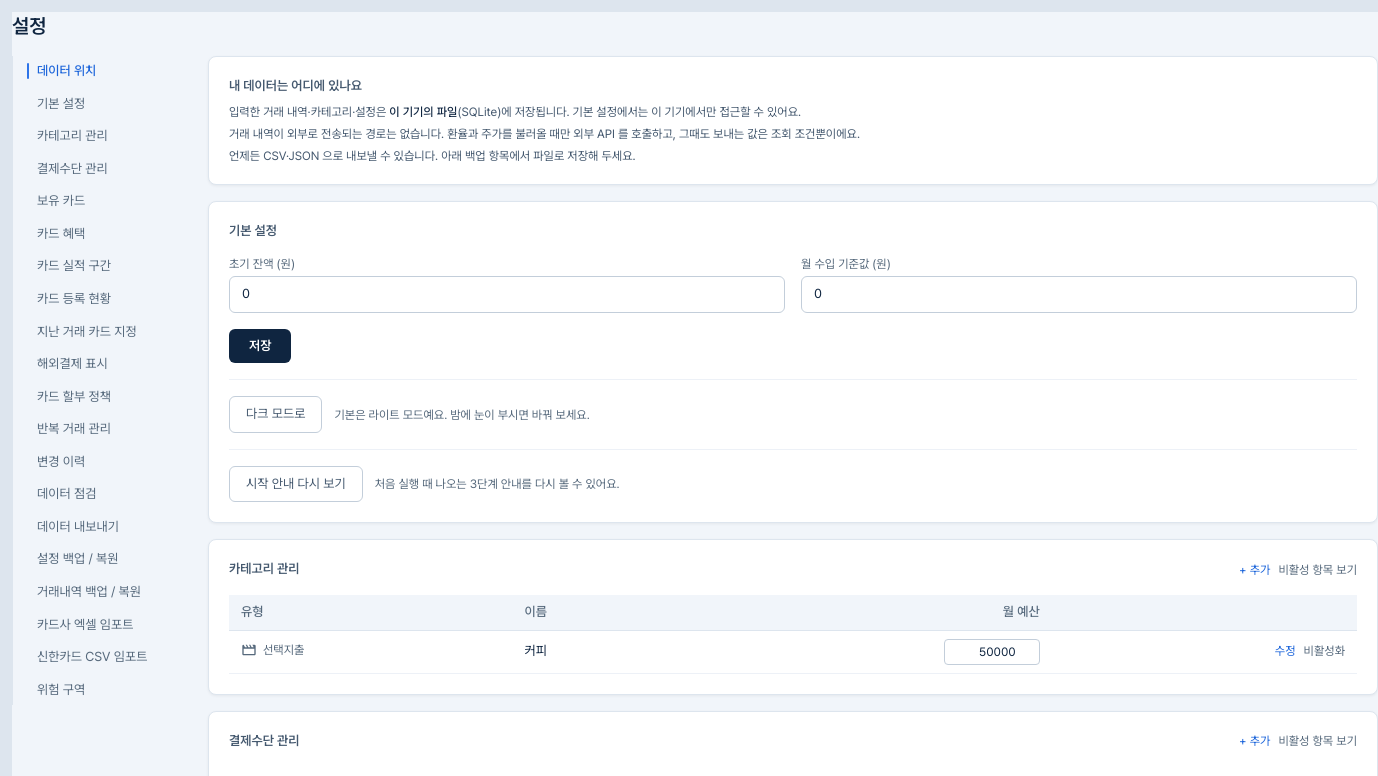
Test: 목록과 활성 필터 › 비활성 항목 보기로 넘기면 함께 보여준다
Click the 1st button "비활성 항목 보기": (1318, 570) [1278,562,1357,578]
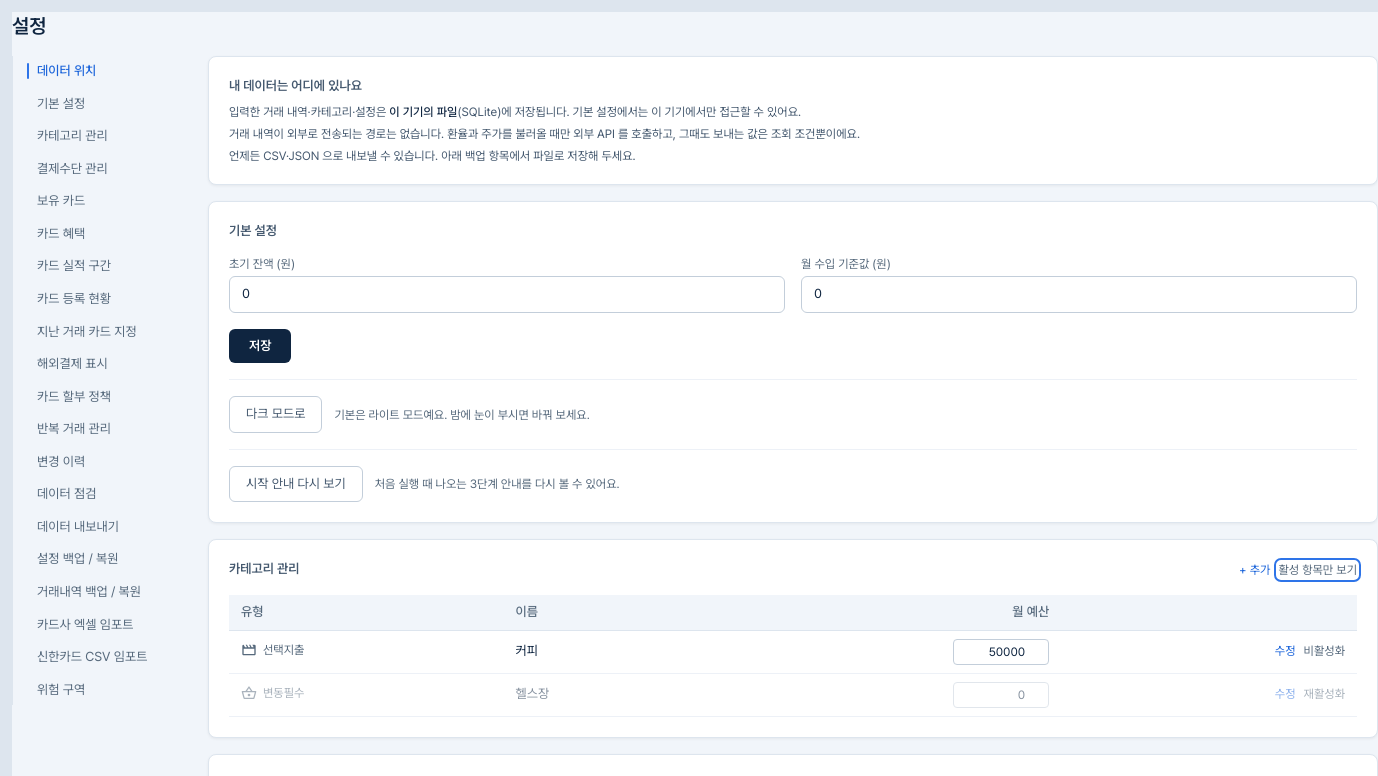
Expected: the text "커피" is shown, [504,630,685,673]
Expected: the text "헬스장" is shown, [504,673,685,716]
